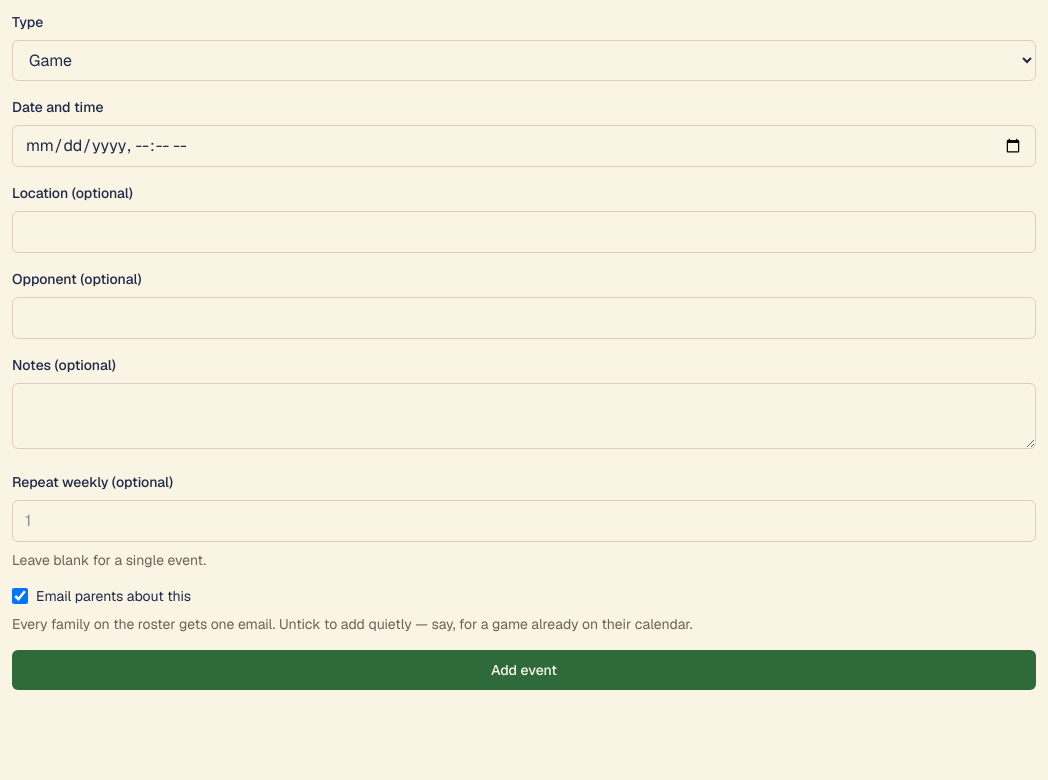
Test: AddEventForm repeat-weekly › says what the submit is about to do once there is a run to describe
The width and height of the screenshot is (1048, 780).
Type "2026-04-04T18:00" into the field with id "startsAt" at (524, 146), box [12,125,1036,167]
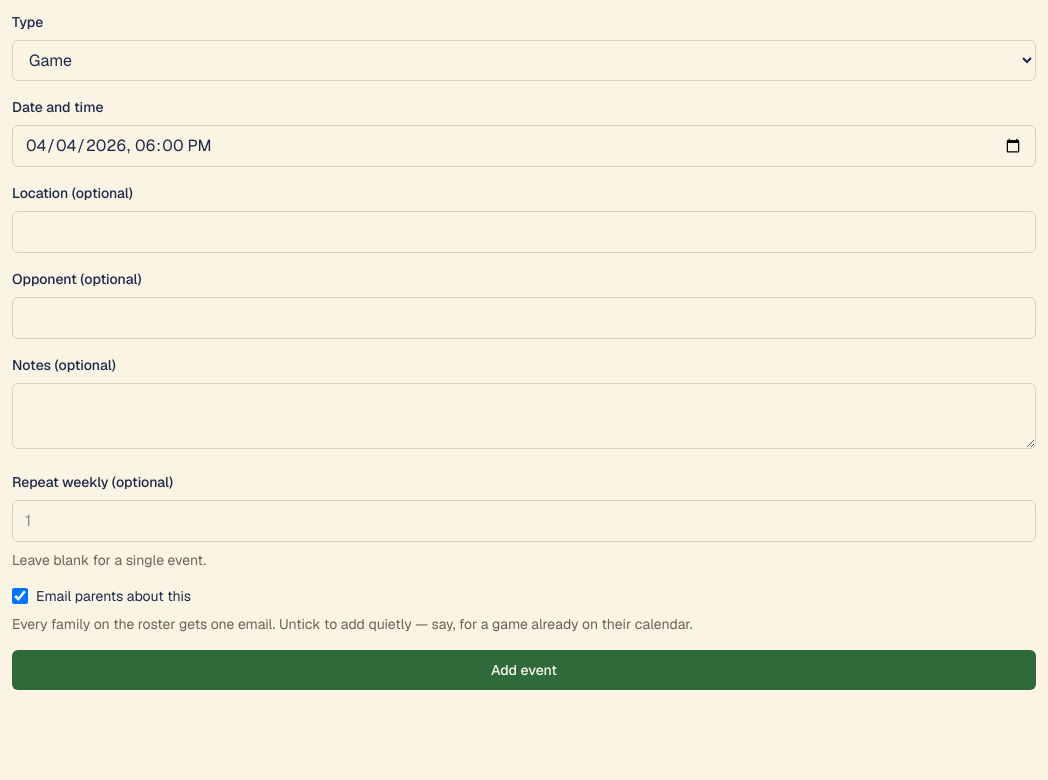
Type "8" into the number field with id "repeat" at (524, 521), box [12,500,1036,542]
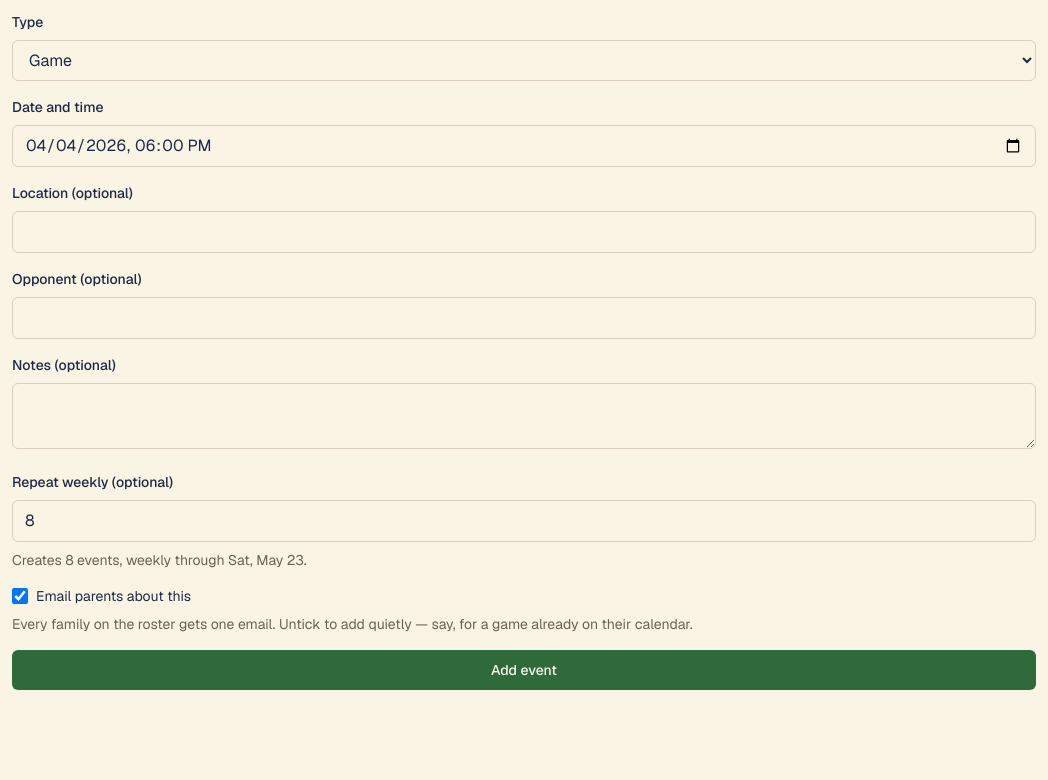
Check: the text "Creates 8 events, weekly through Sat, May 23." is shown, box [12,551,307,569]
Check: the text "Leave blank for a single event." is gone
